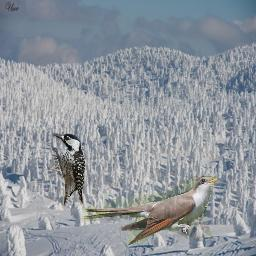Cuckoo: (82, 176, 217, 245)
Woodpecker: (49, 133, 85, 207)
